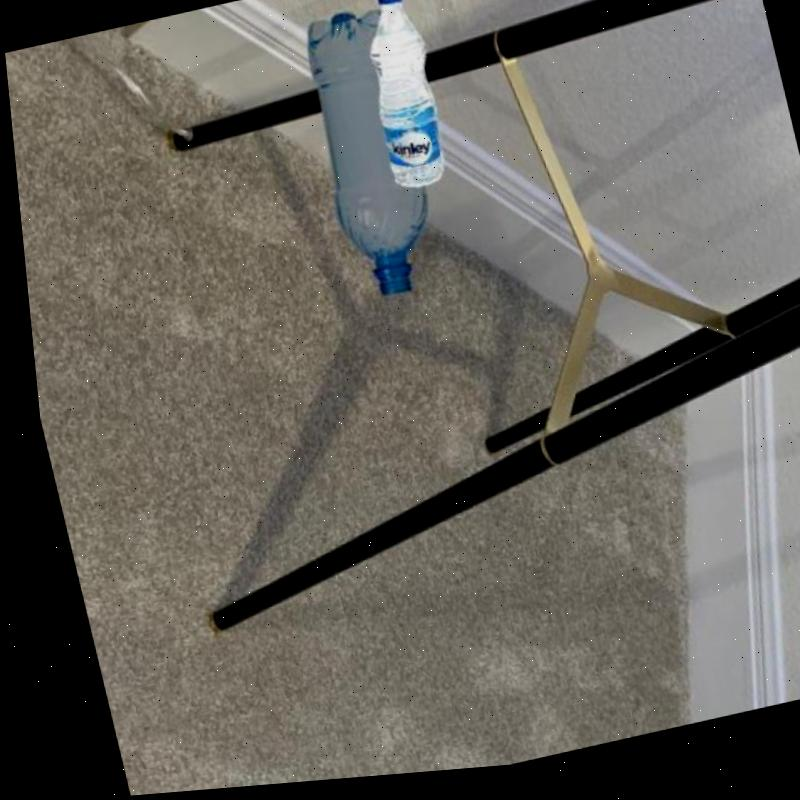botella: (291, 10, 438, 312), (350, 0, 455, 200)
